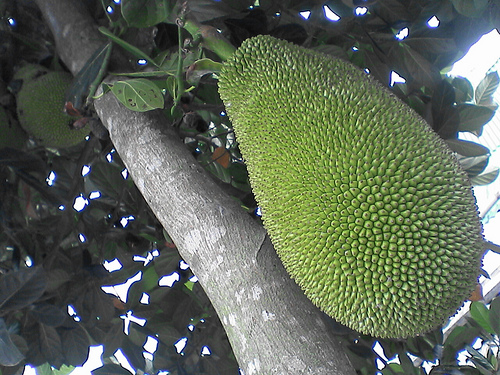jackfruit: (176, 14, 486, 342), (14, 69, 94, 152)
